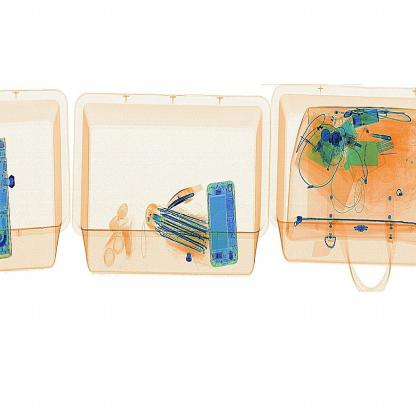pliers: (154, 171, 211, 220)
